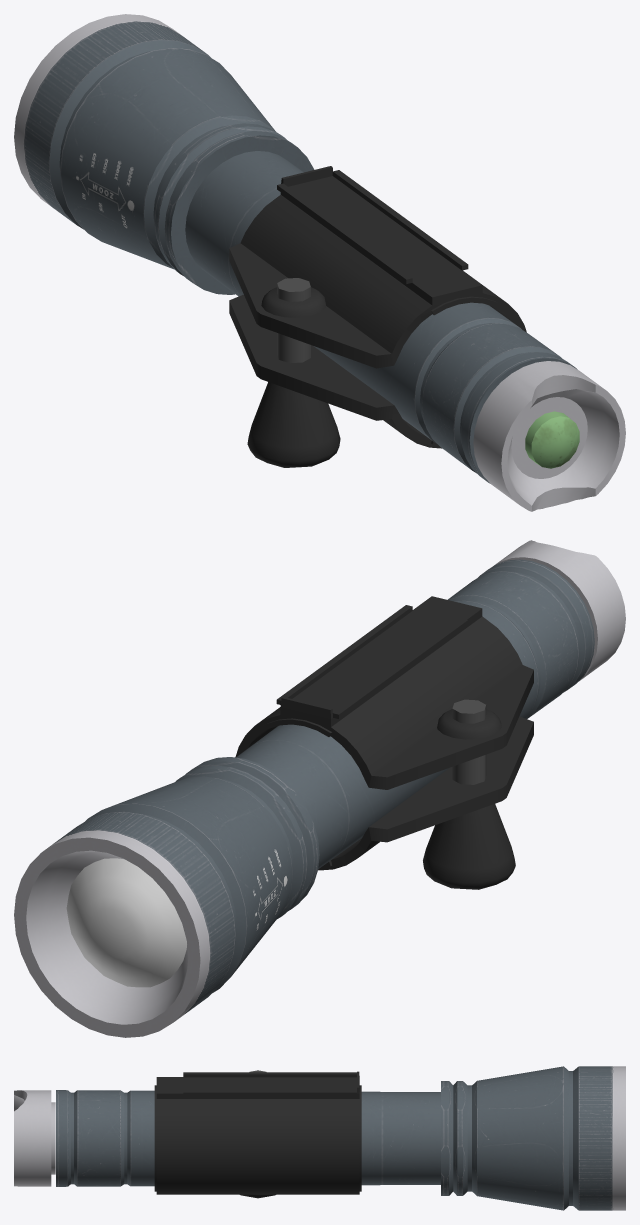
The model's file is item_flashlight.glb.
3 renders of one model, top to bottom at view 1: azimuth 30°, elevation 25°; view 2: azimuth 150°, elevation 25°; view 3: azimuth 270°, elevation 25°, orthographic. The views are drawn at different scales.
Visible parts, largest first — view 1: Flashlight; view 2: Flashlight; view 3: Flashlight.
Part boxes in pixels (x1,y1,x2,y2): Flashlight: [14, 14, 625, 511]; Flashlight: [14, 540, 625, 1037]; Flashlight: [14, 1066, 625, 1210].
Size of the model in its own units: 0.0568 by 0.0526 by 0.2027.
2 materials, 1 textured.
